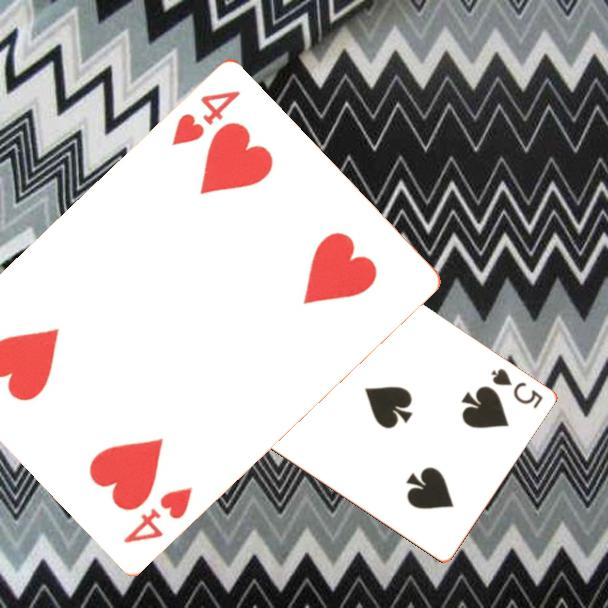h04: (119, 482, 196, 546), (167, 86, 244, 148)
s05: (487, 365, 545, 412)
